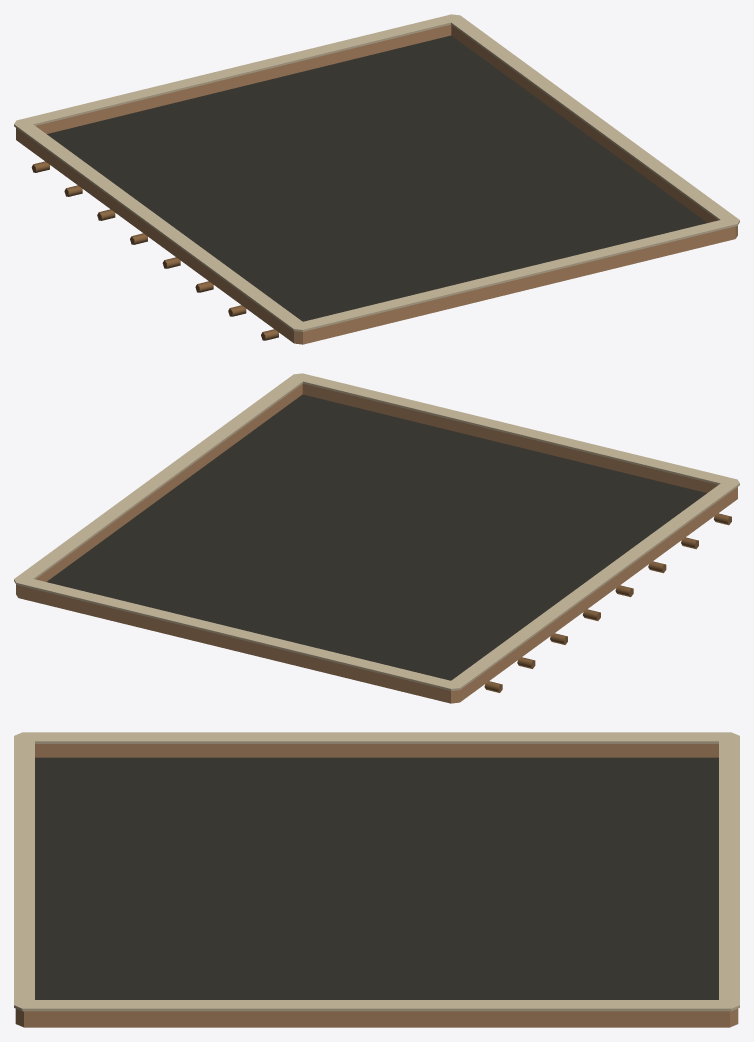
File: SM_Homes_H01_Roof_LOD2.fbx
The picture shows the model from 3 angles, top to bottom: view 1: azimuth 30°, elevation 25°; view 2: azimuth 150°, elevation 25°; view 3: azimuth 270°, elevation 25°; orthographic projection. The views are drawn at different scales.
Visible parts, largest first — view 1: SM_Homes_H01_Roof_LOD2; view 2: SM_Homes_H01_Roof_LOD2; view 3: SM_Homes_H01_Roof_LOD2.
Boxes of the visible parts, <box> form: SM_Homes_H01_Roof_LOD2: <box>14,14,739,344</box>; SM_Homes_H01_Roof_LOD2: <box>14,373,739,703</box>; SM_Homes_H01_Roof_LOD2: <box>14,732,739,1027</box>.
Bounding box in the file's own units: 9.26 × 10.05 × 0.4708.
